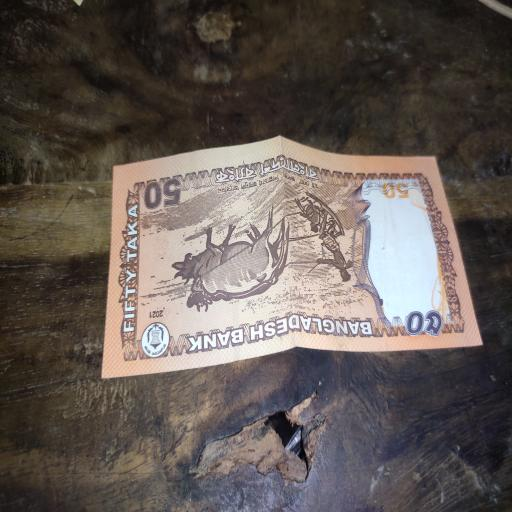50taka: (101, 136, 481, 377)
